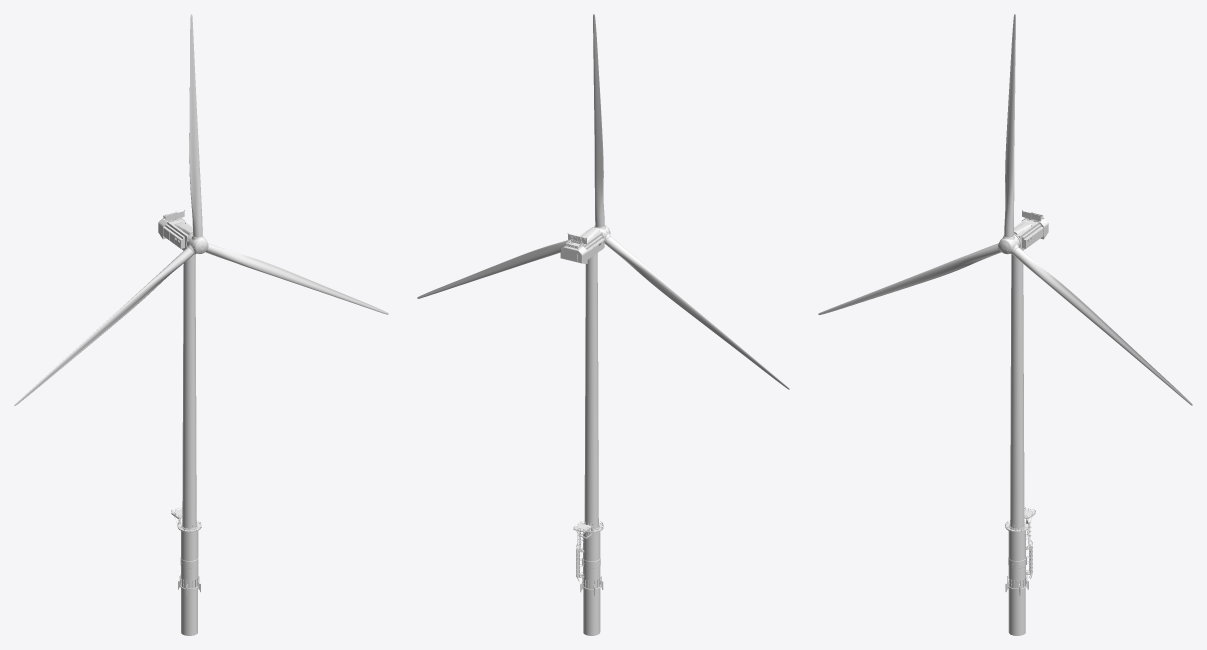
Rendered from 3dmodel.glb.
The picture shows the model from 3 angles, left to right: view 1: azimuth 30°, elevation 25°; view 2: azimuth 150°, elevation 25°; view 3: azimuth 330°, elevation 25°; orthographic projection.
Parts seen in each view (by area): view 1: Rotor, Tower, Foundation, Hub; view 2: Rotor, Tower, Foundation, Hub; view 3: Rotor, Tower, Foundation, Hub.
Boxes of the visible parts, x1,y1,x2,y2 form: Rotor: (14, 14, 388, 405); Tower: (181, 254, 197, 529); Foundation: (171, 507, 201, 635); Hub: (158, 210, 192, 250); Rotor: (417, 14, 789, 389); Tower: (584, 253, 599, 529); Foundation: (573, 521, 603, 635); Hub: (560, 227, 604, 263); Rotor: (818, 14, 1192, 405); Tower: (1009, 254, 1025, 529); Foundation: (1005, 507, 1035, 635); Hub: (1014, 210, 1048, 250).
Bounding box in the file's own units: 204 × 323 × 31.96.
Materials: 6 (2 with a texture image).
